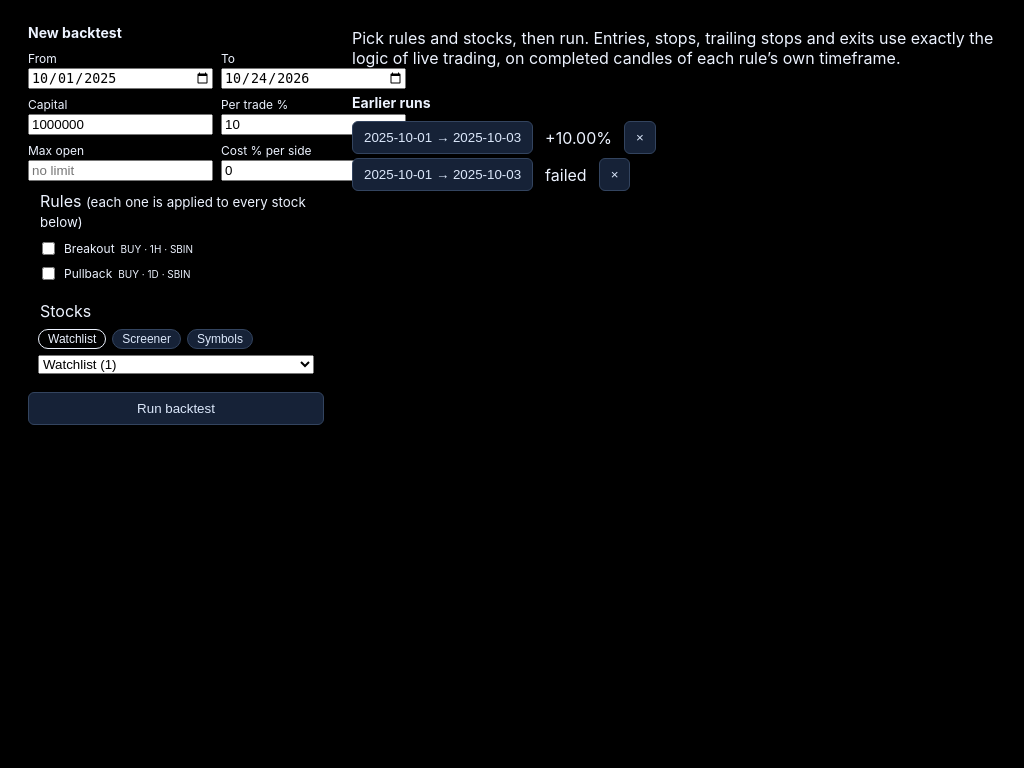
Scenario: BacktestView › reopens and deletes earlier runs
Expected: the checkbox labelled "Breakout BUY · 1H · SBIN" is shown, [42,242,55,255]
Expected: the text "+10.00%" is shown, [545,128,612,148]
Click the button "2025-10-01 → 2025-10-03" next to "+10.00%" at (443, 138), box [352,121,533,154]
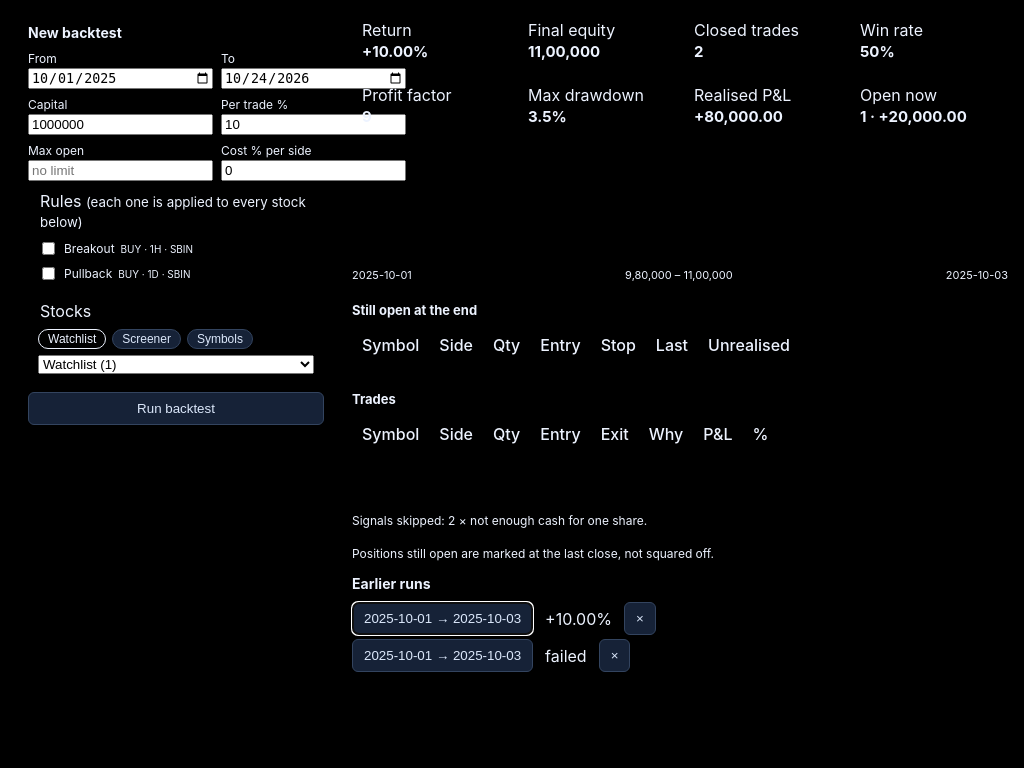
Expected: the text "Closed trades" is shown, [694,20,799,40]
Click the button named "Delete run" at (614, 656), box [599,639,630,672]
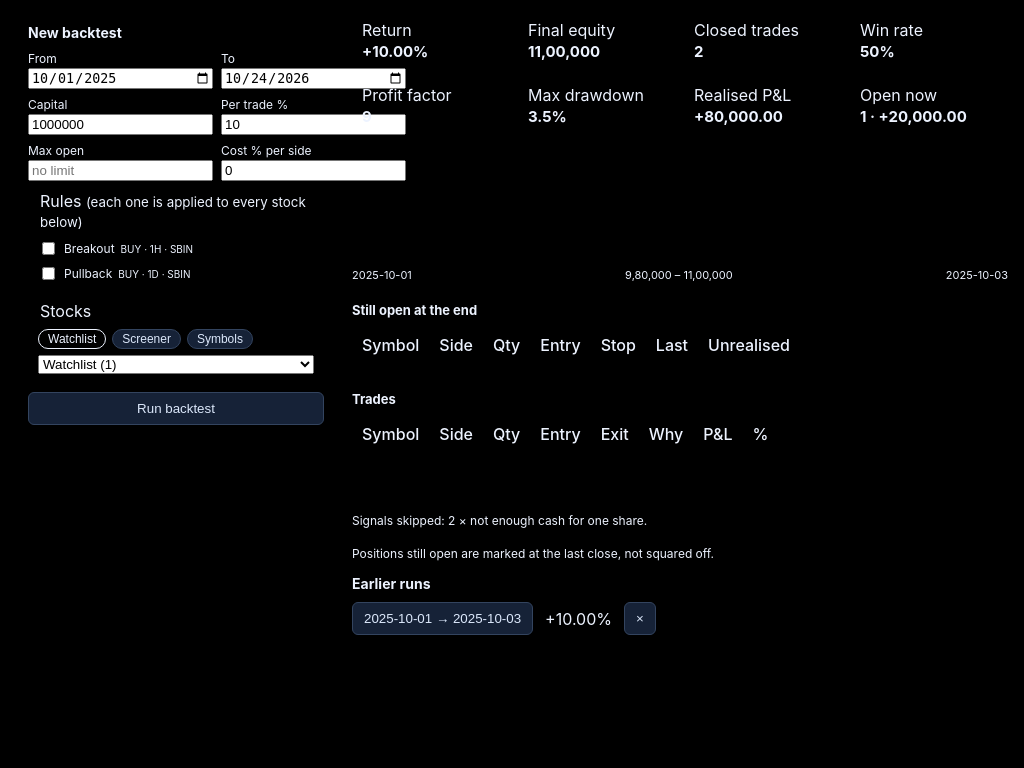
Expected: the number of list items is 1, [352,602,656,635]
